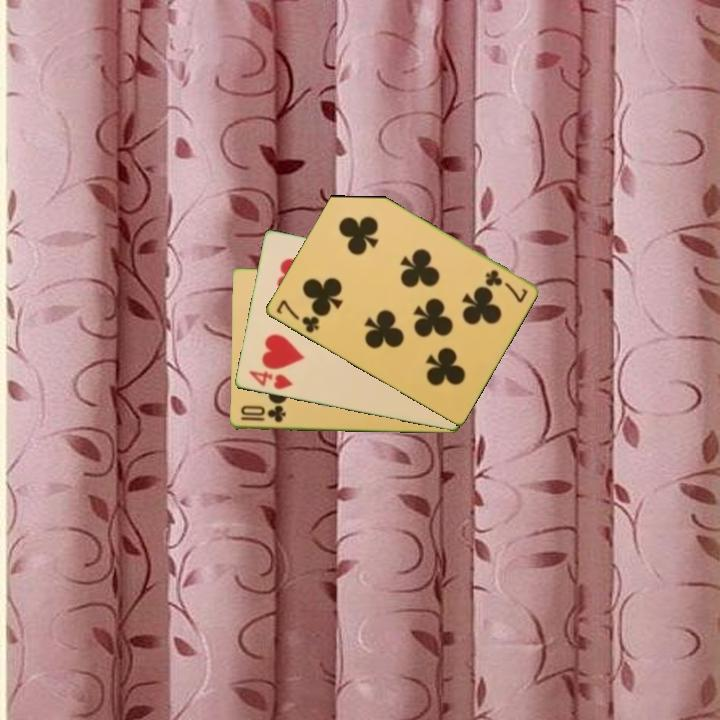10c: (237, 403, 288, 425)
4h: (244, 367, 295, 393)
7c: (272, 296, 322, 336), (481, 266, 531, 305)
